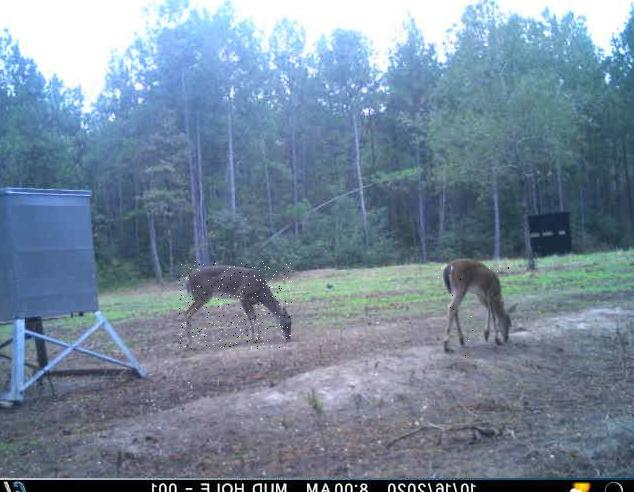Deer: (179, 261, 292, 349), (438, 259, 517, 358)
